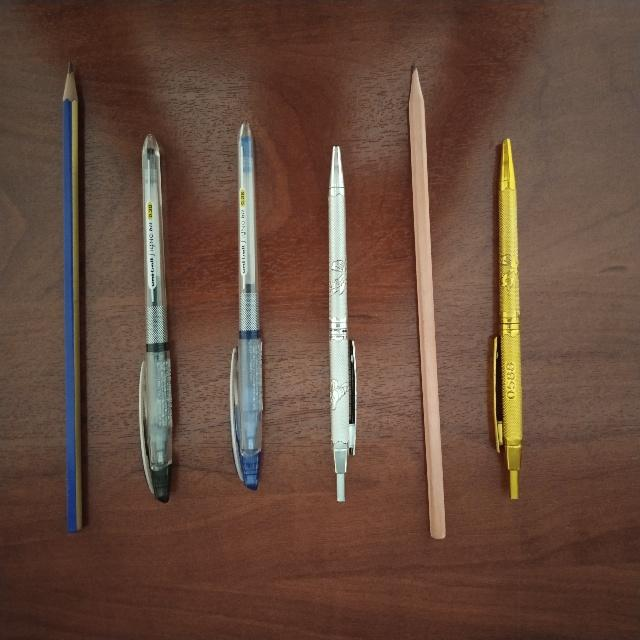pen: (230, 122, 263, 490), (139, 135, 171, 502)
pencil: (409, 67, 445, 538), (63, 63, 81, 532)
signature pen: (494, 139, 522, 498), (328, 146, 356, 501)
